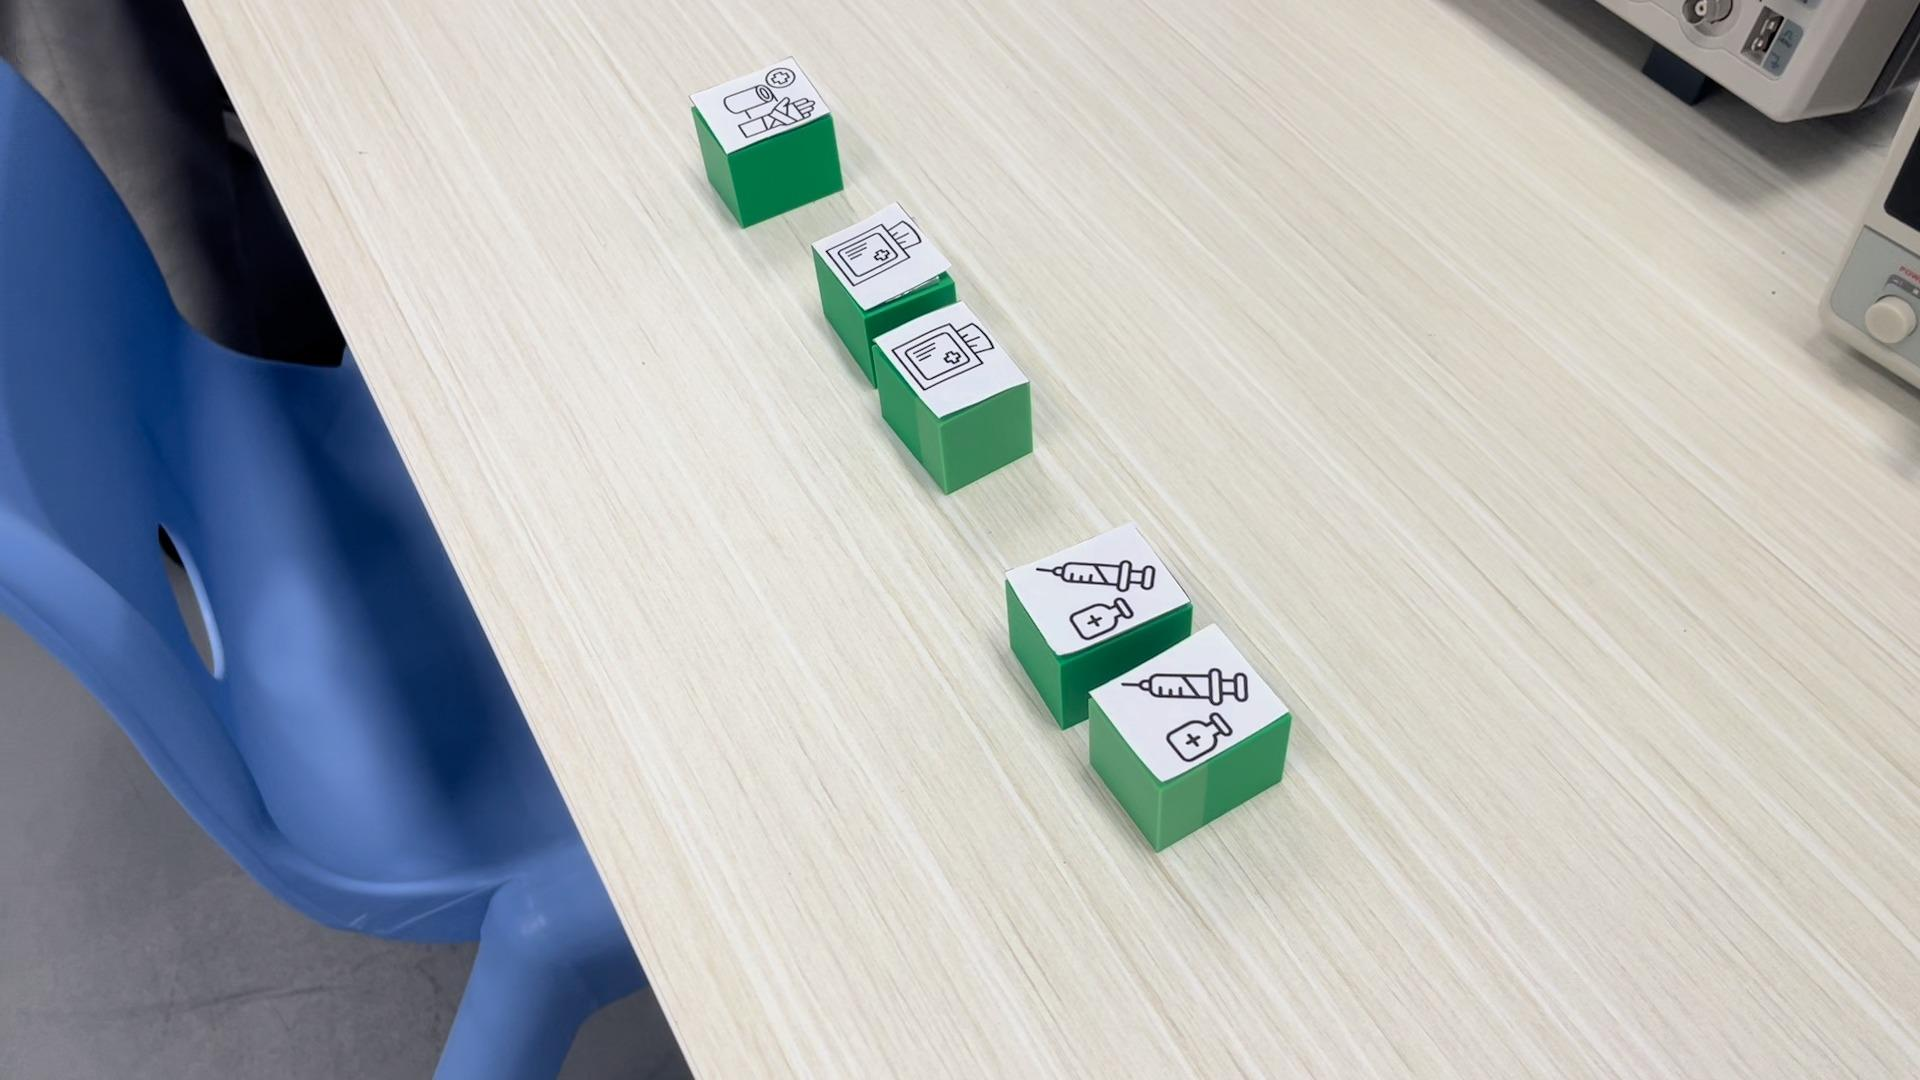Bandages: (684, 55, 844, 227)
Gauze: (873, 297, 1033, 493), (812, 200, 956, 319)
antiseptic cream: (1087, 622, 1295, 851), (1004, 518, 1193, 663)
